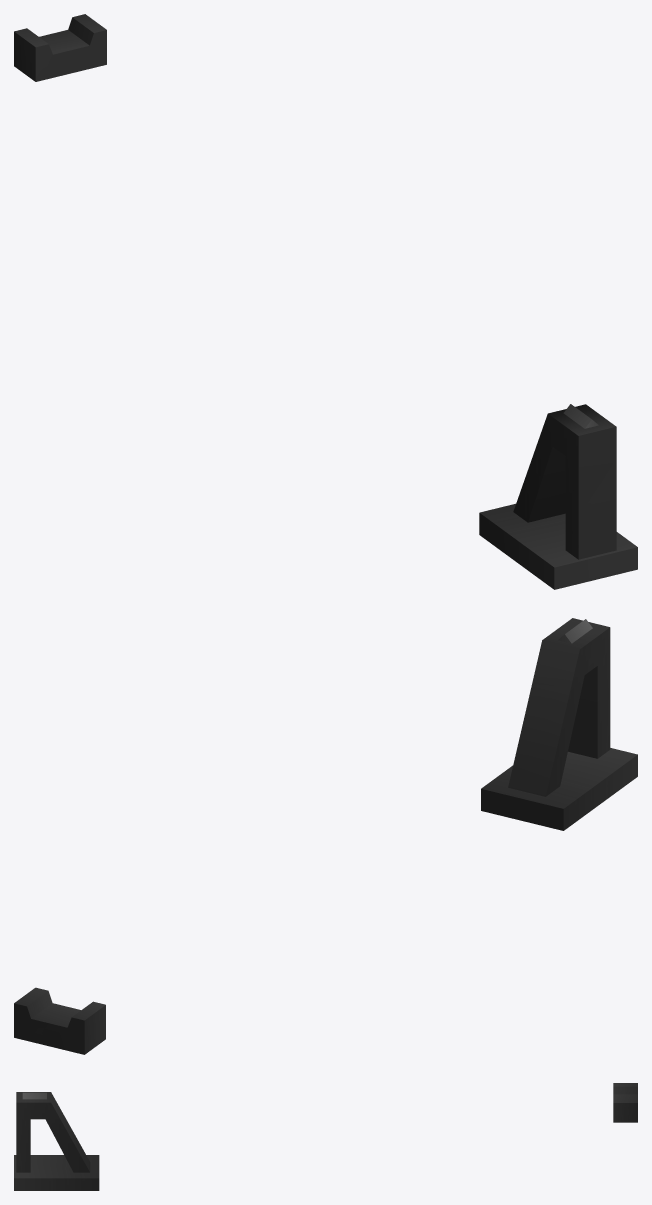
The model's file is ARIronSights_mesh.fbx.
The picture shows the model from 3 angles, top to bottom: view 1: azimuth 30°, elevation 25°; view 2: azimuth 150°, elevation 25°; view 3: azimuth 270°, elevation 25°; orthographic projection. The views are drawn at different scales.
Parts seen in each view (by area): view 1: ARIronSights_mesh; view 2: ARIronSights_mesh; view 3: ARIronSights_mesh.
Boxes of the visible parts, left/top/right/bottom form: ARIronSights_mesh: left=14, top=14, right=637, bottom=589; ARIronSights_mesh: left=14, top=618, right=637, bottom=1054; ARIronSights_mesh: left=14, top=1083, right=637, bottom=1190.
Bounding box in the file's own units: 2.62 × 4.61 × 29.83.
